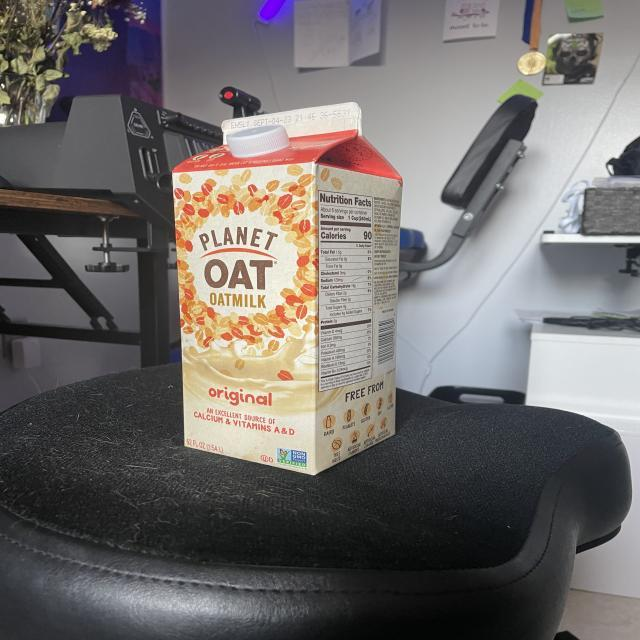Planet Oat Original: (160, 93, 410, 484)
